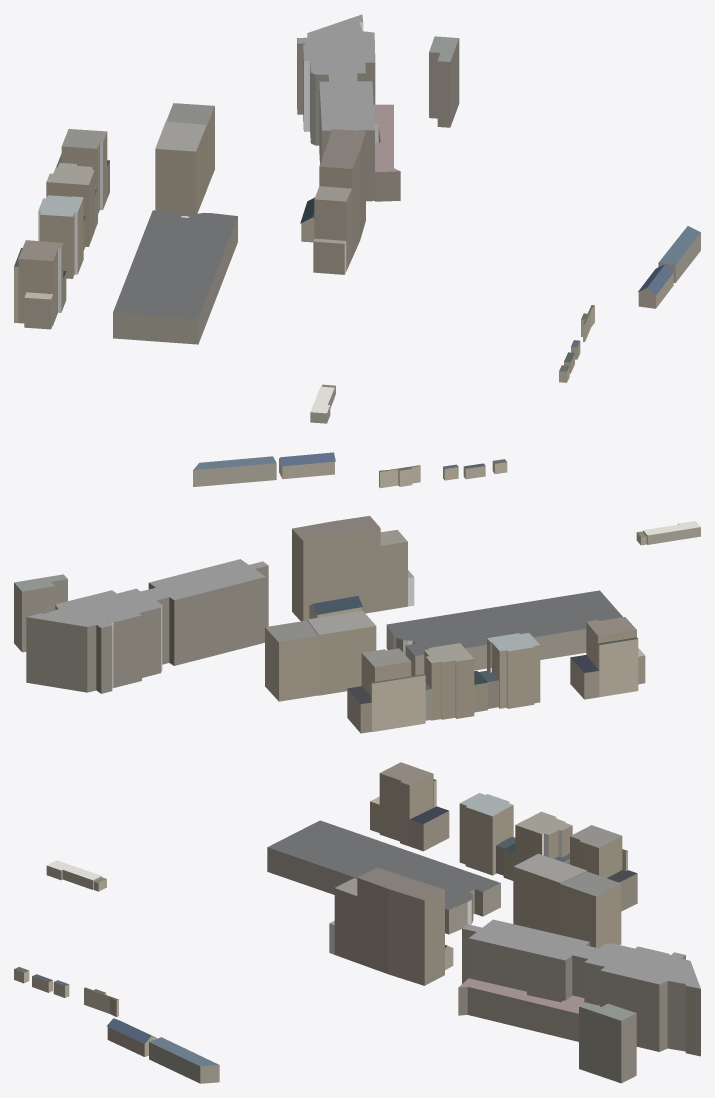
3 views of the same model, one above another, from view 1: azimuth 30°, elevation 25°; view 2: azimuth 150°, elevation 25°; view 3: azimuth 270°, elevation 25° (orthographic). The views are drawn at different scales.
Visible parts, largest first — view 1: tuile; view 2: tuile; view 3: tuile.
Part boxes in pixels (<box>): tuile: <box>14,14,700,423</box>; tuile: <box>14,452,700,733</box>; tuile: <box>14,762,700,1083</box>.
Size of the model in its own units: 257 by 40.64 by 276.
